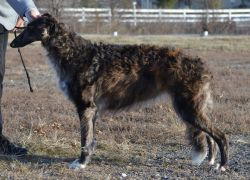borzoi: (7, 12, 234, 174)
